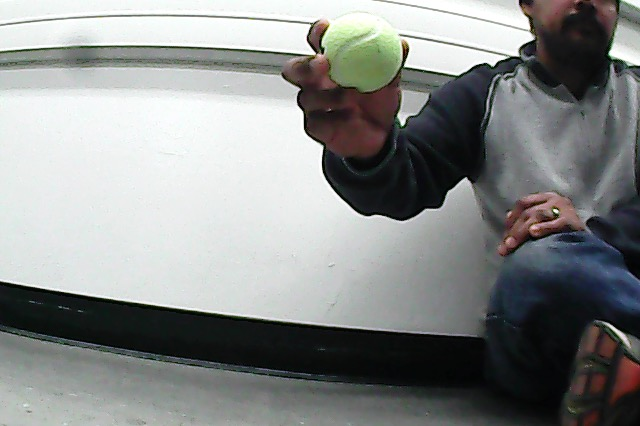ball: (318, 10, 408, 96)
